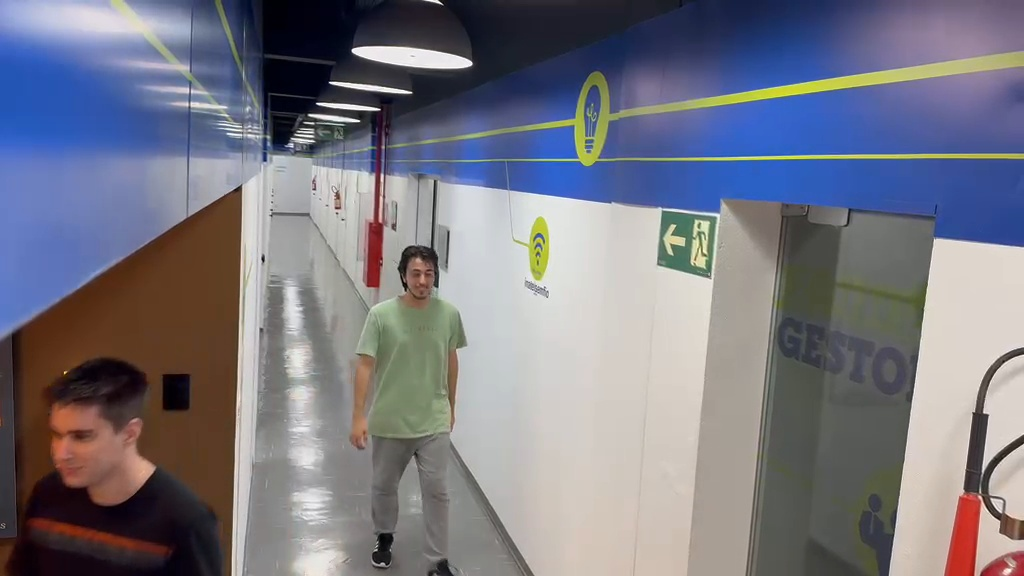person: (5, 356, 225, 572), (349, 243, 466, 575)
